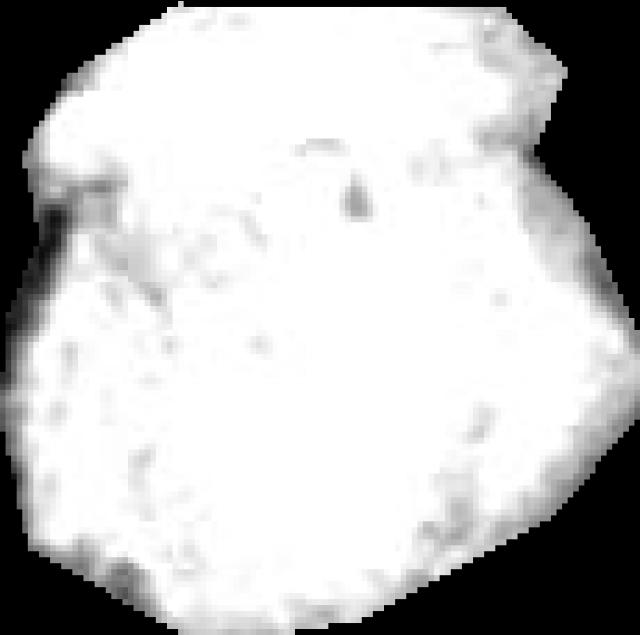tumor_good_chance: (0, 1, 640, 635)
